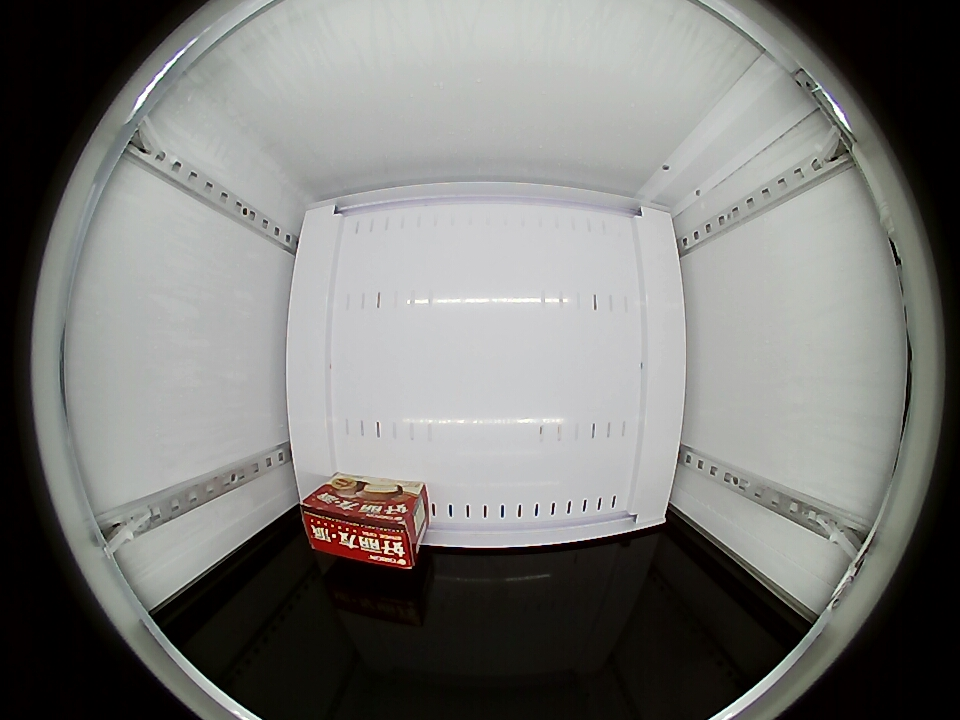haoliyou: (301, 483, 423, 569)
